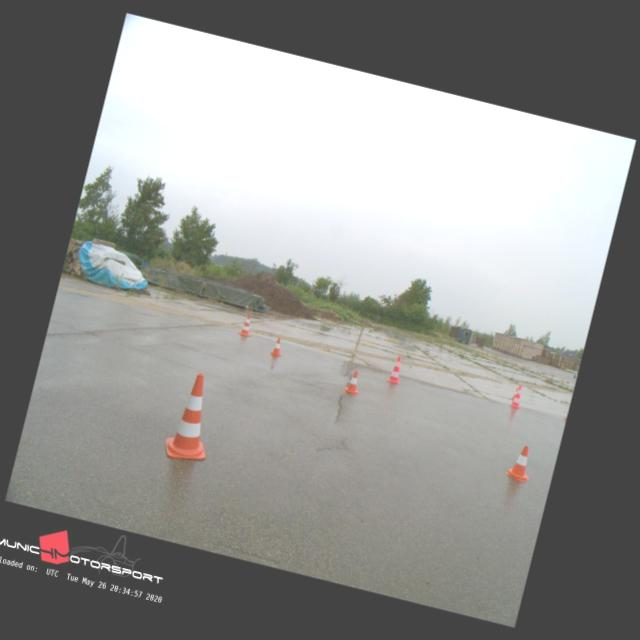large_orange_cone: (162, 368, 224, 464), (386, 354, 406, 384), (238, 311, 255, 336), (510, 384, 524, 408)
orange_cone: (504, 442, 535, 482), (342, 369, 362, 394), (270, 337, 284, 357)
